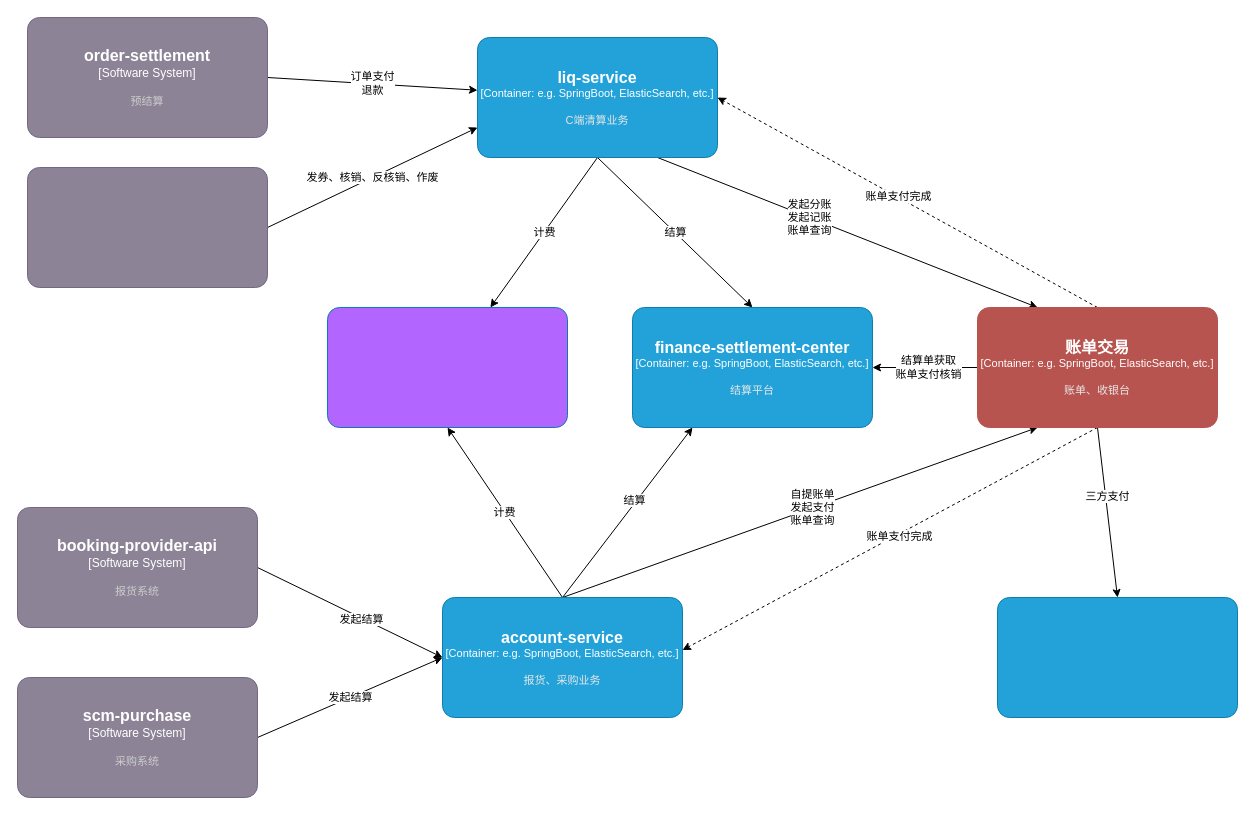
The diagram is 1255 pixels wide and 815 high, and some of its shapes have lost their labels. The centre of each missing label's shape, as x and y in pixels:
pay-core [Container: e.g. SpringBoot, ElasticSearch, etc.] 支付核心: pixel 1117 657
platform-promotion-center [Software System] 促销: pixel 147 227
计费系统 [Container: e.g. SpringBoot, ElasticSearch, etc.] 计费: pixel 447 367
